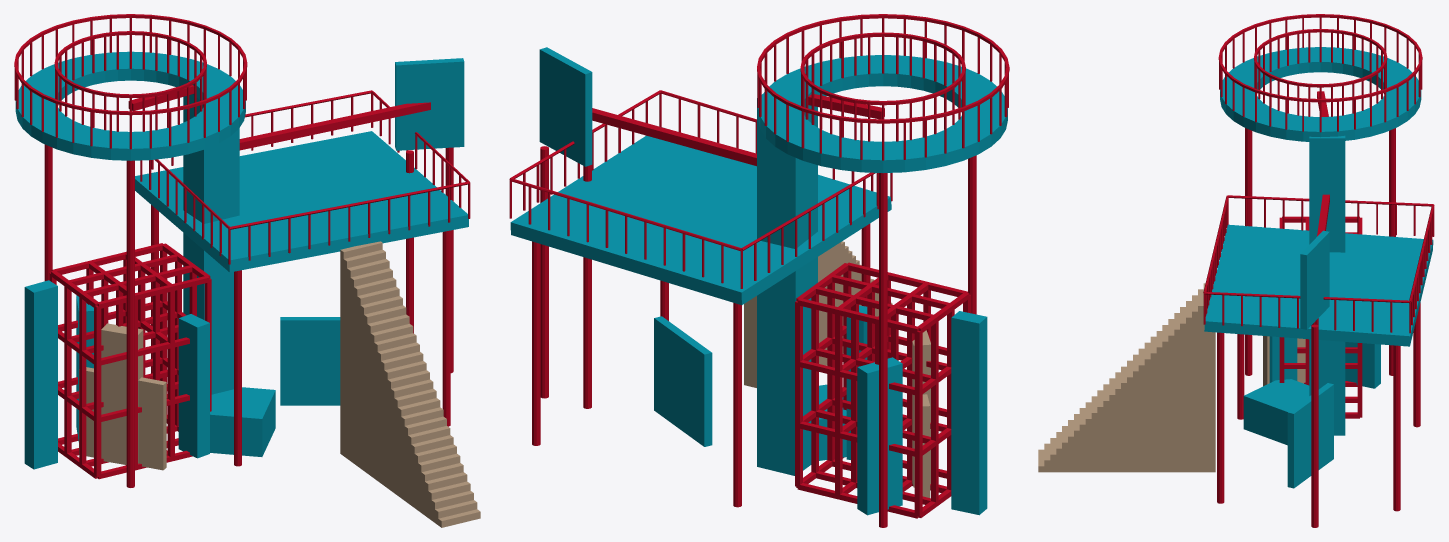
File: folie_tag_143.glb
3 views of the same model, side by side, from view 1: azimuth 30°, elevation 25°; view 2: azimuth 150°, elevation 25°; view 3: azimuth 270°, elevation 25° (orthographic). The views are drawn at different scales.
Visible parts, largest first — view 1: folie_tag_143_line, folie_tag_143_00_plate, folie_tag_143_stairs, folie_tag_143_02_cage, folie_tag_143_01_ring, folie_tag_143_core, folie_tag_143_04_fin, folie_tag_143_08_panel, folie_tag_143_05_panel, folie_tag_143_10_fin, folie_tag_143_09_block, folie_tag_143_03_fin (+2 smaller); view 2: folie_tag_143_line, folie_tag_143_00_plate, folie_tag_143_02_cage, folie_tag_143_01_ring, folie_tag_143_core, folie_tag_143_04_fin, folie_tag_143_05_panel, folie_tag_143_07_fin, folie_tag_143_08_panel, folie_tag_143_stairs, folie_tag_143_03_fin, folie_tag_143_06_panel (+2 smaller); view 3: folie_tag_143_line, folie_tag_143_stairs, folie_tag_143_00_plate, folie_tag_143_01_ring, folie_tag_143_core, folie_tag_143_05_panel, folie_tag_143_09_block, folie_tag_143_08_panel, folie_tag_143_02_cage, folie_tag_143_07_fin, folie_tag_143_10_fin.
Boxes of the visible parts, x1,y1,x2,y2 form: folie_tag_143_line: (14,14,470,487); folie_tag_143_00_plate: (135,131,468,272); folie_tag_143_stairs: (340,241,480,527); folie_tag_143_02_cage: (49,243,211,479); folie_tag_143_01_ring: (15,51,245,160); folie_tag_143_core: (183,94,239,394); folie_tag_143_04_fin: (24,280,57,469); folie_tag_143_08_panel: (395,58,464,150); folie_tag_143_05_panel: (280,317,340,405); folie_tag_143_10_fin: (178,314,209,458); folie_tag_143_09_block: (210,387,275,456); folie_tag_143_03_fin: (101,323,143,464); folie_tag_143_line: (509,14,1009,527); folie_tag_143_00_plate: (510,127,891,305); folie_tag_143_02_cage: (795,262,970,518); folie_tag_143_01_ring: (758,55,1007,173); folie_tag_143_core: (757,93,817,475); folie_tag_143_04_fin: (951,311,987,515); folie_tag_143_05_panel: (654,316,712,446); folie_tag_143_07_fin: (857,357,902,515); folie_tag_143_08_panel: (539,47,592,166); folie_tag_143_stairs: (744,241,892,387); folie_tag_143_03_fin: (912,330,930,487); folie_tag_143_06_panel: (922,394,930,497); folie_tag_143_line: (1203,14,1434,527); folie_tag_143_stairs: (1038,283,1215,472); folie_tag_143_00_plate: (1204,224,1433,346); folie_tag_143_01_ring: (1220,47,1421,141); folie_tag_143_core: (1309,135,1345,435); folie_tag_143_05_panel: (1287,383,1333,488); folie_tag_143_09_block: (1243,379,1309,445); folie_tag_143_08_panel: (1300,230,1329,329); folie_tag_143_02_cage: (1279,216,1362,418); folie_tag_143_07_fin: (1345,342,1380,388); folie_tag_143_10_fin: (1269,336,1297,382).
Size of the model in its own units: 13.1 by 11.34 by 12.08.
